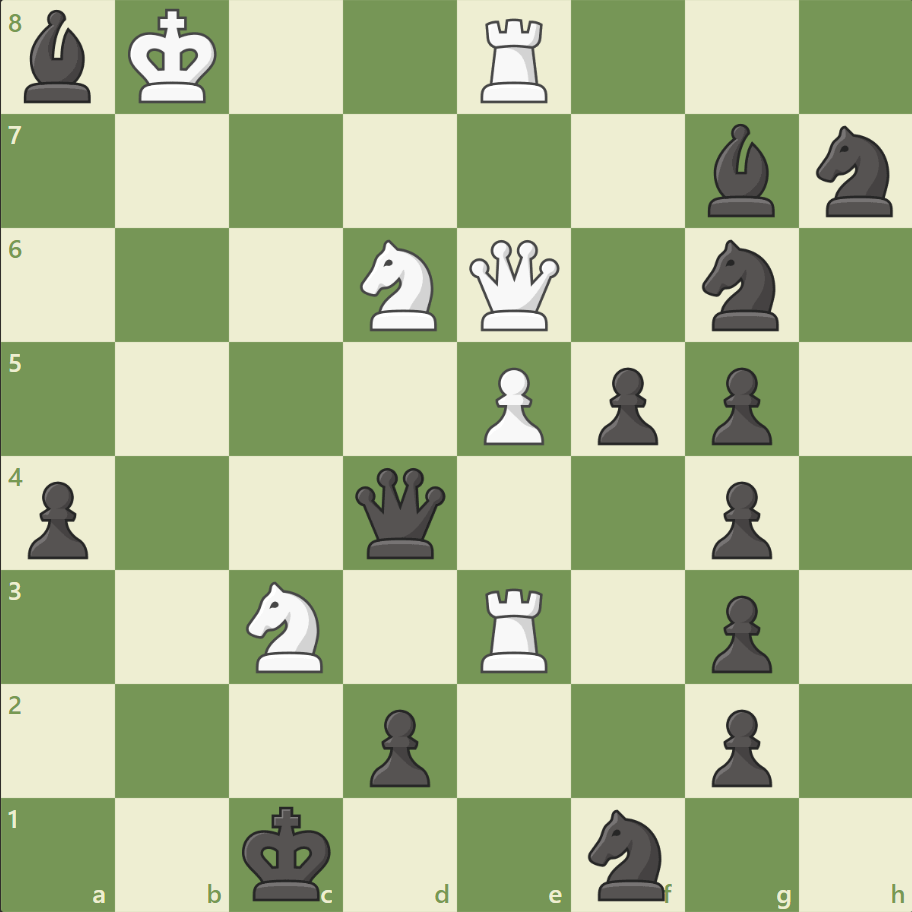K: (124, 4, 224, 112)
N: (351, 234, 449, 337), (238, 575, 335, 677)
P: (474, 359, 549, 450)
Q: (464, 236, 563, 335)
R: (473, 12, 556, 109), (473, 579, 556, 676)
b: (17, 6, 101, 109), (698, 120, 782, 222)
k: (238, 798, 338, 906)
n: (692, 234, 789, 337), (806, 121, 903, 223), (579, 802, 676, 904)
p: (701, 359, 776, 450), (20, 473, 95, 564), (701, 473, 776, 564), (701, 586, 776, 677), (701, 700, 776, 791), (588, 359, 662, 450), (361, 700, 435, 791)
q: (351, 463, 450, 562)
